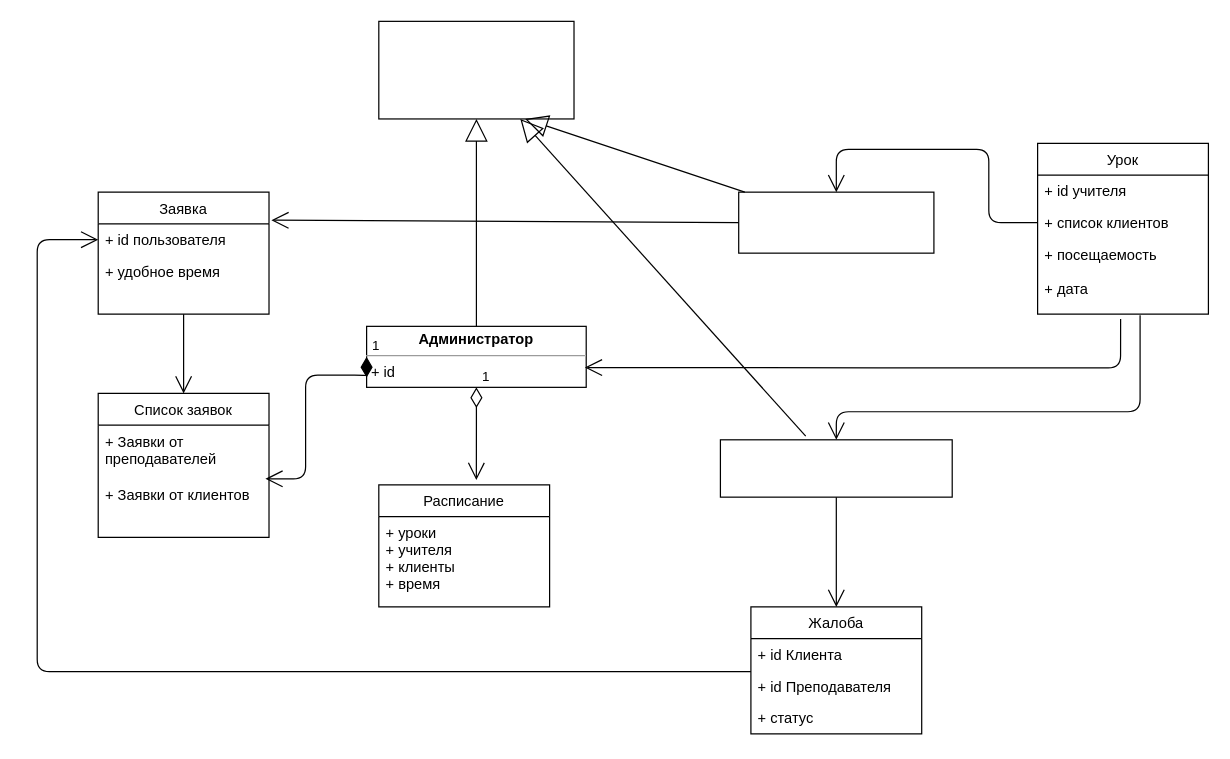
The diagram is 1230 pixels wide and 759 high, and some of its shapes have lost their labels. Here are the shapes that lost their labels. From the top down, the centre of each, then its label:
point (476, 69): Пользователь + роль + логин + пароль
point (835, 222): Преподаватель + id
point (835, 468): Клиент + id
